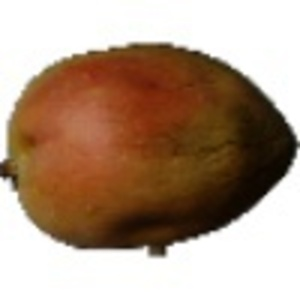mamão: (8, 36, 295, 247)
